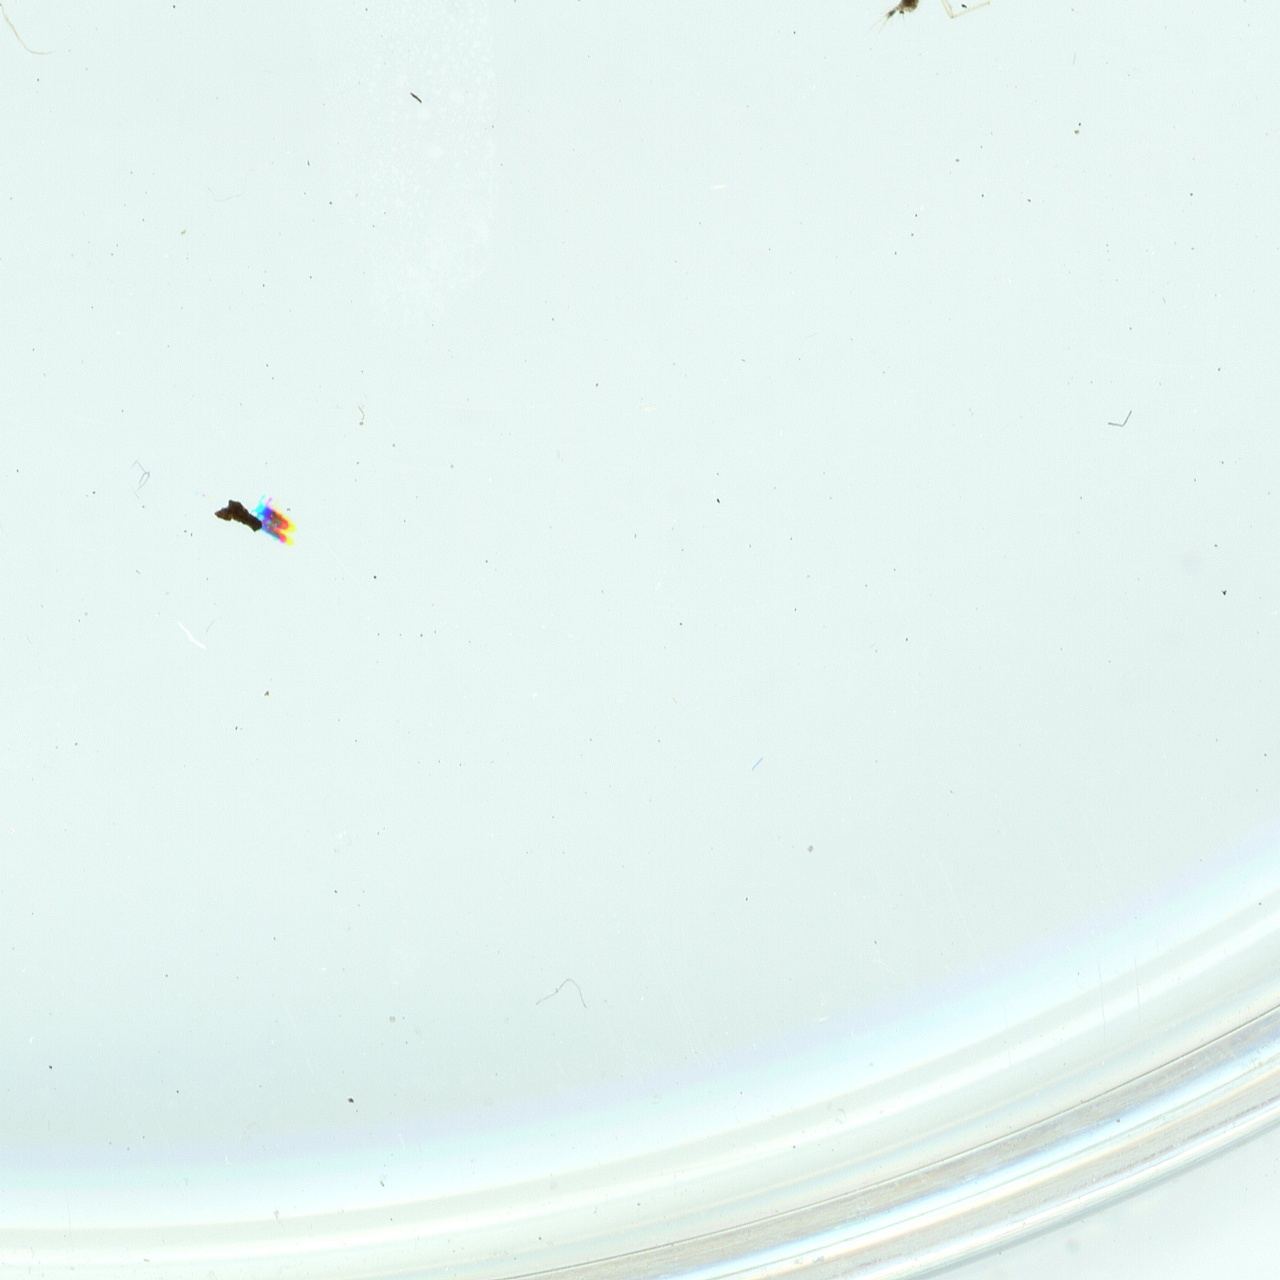arthropod: (869, 0, 1013, 40), (246, 489, 307, 540)
